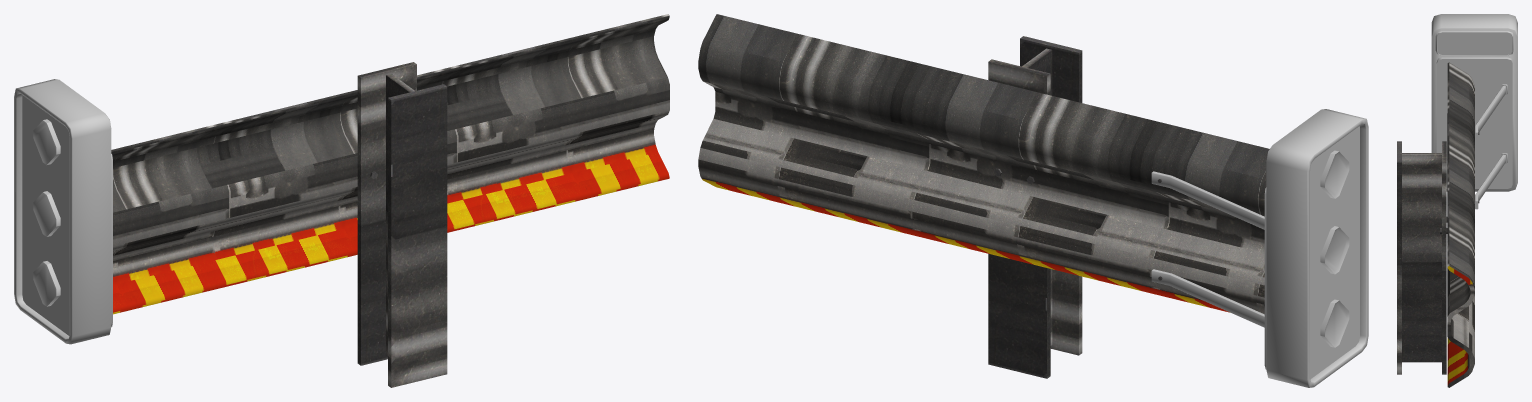
Rendered from Rail 6.FBX.
3 views of the same model, side by side, from view 1: azimuth 30°, elevation 25°; view 2: azimuth 150°, elevation 25°; view 3: azimuth 270°, elevation 25° (orthographic). The views are drawn at different scales.
Parts seen in each view (by area): view 1: guardrail_endsign_right_a; view 2: guardrail_endsign_right_a; view 3: guardrail_endsign_right_a.
Part boxes in pixels (x1,y1,x2,y2): guardrail_endsign_right_a: (14, 14, 669, 387); guardrail_endsign_right_a: (698, 14, 1368, 387); guardrail_endsign_right_a: (1397, 14, 1517, 387).
Size of the model in its own units: 223 by 111 by 51.8.
